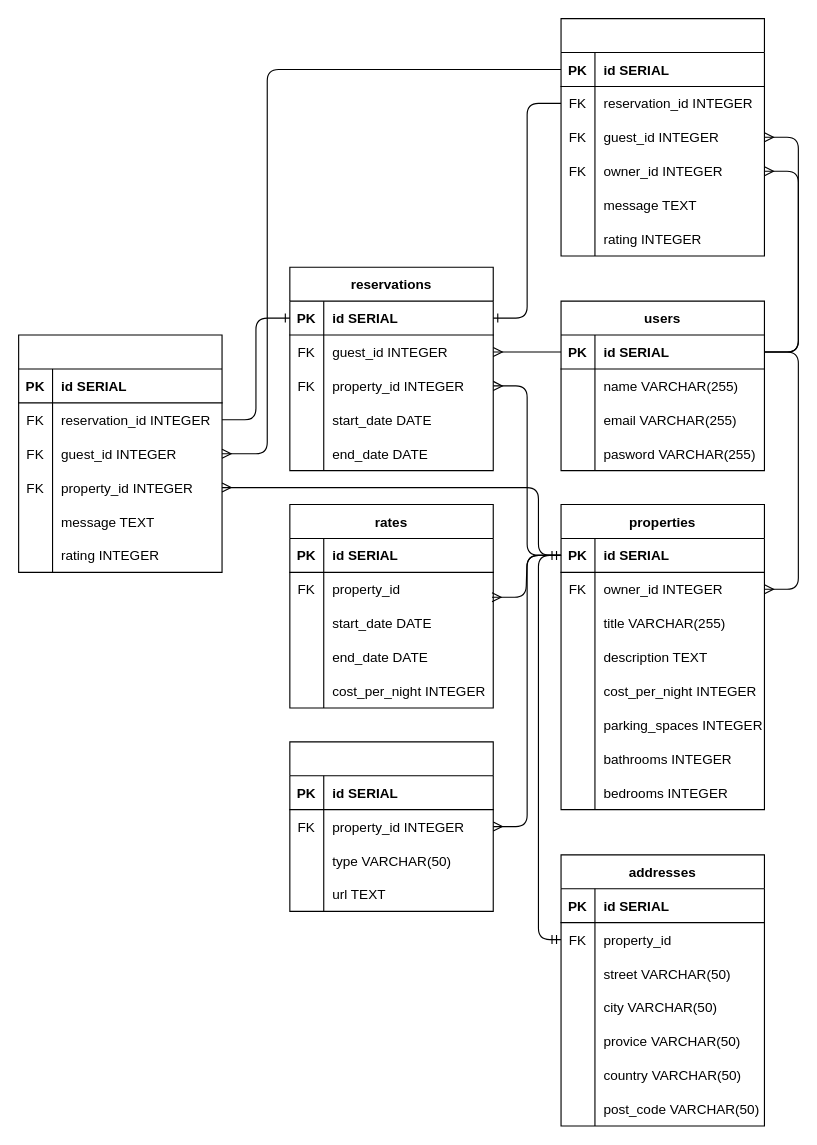
This 817x1145 diagram has some shape labels left out. Each missing label, with the box of its shape:
guest_reviews: (560, 18, 764, 256)
photo_urls: (289, 741, 493, 911)
property_reviews: (18, 334, 222, 572)
